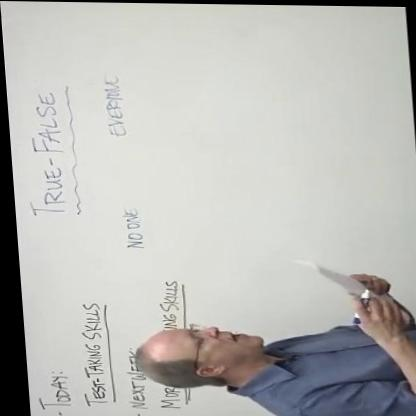Handwritten text: (139, 278, 201, 409), (17, 89, 73, 219), (67, 300, 109, 410), (95, 71, 134, 139), (22, 371, 75, 414), (112, 344, 147, 409), (110, 200, 145, 251)
Lecturer: (118, 276, 416, 416)
Whiteboard: (0, 1, 416, 416)
